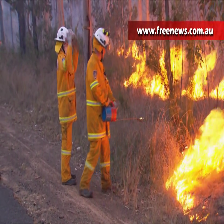fire_h: (165, 108, 224, 220), (117, 40, 187, 99), (183, 50, 216, 100), (209, 75, 224, 100)
fire_l: (189, 213, 202, 223), (202, 213, 209, 221)
